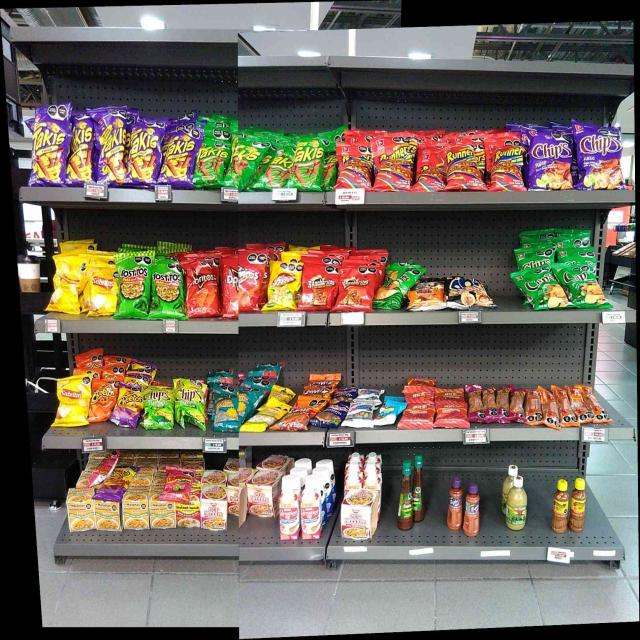bitzAlmendras: (376, 399, 405, 426)
bitzEnchilado90: (436, 398, 467, 424), (406, 402, 436, 428)
bitzEnchilado95: (543, 388, 558, 429), (526, 388, 542, 425), (559, 387, 574, 426), (589, 389, 605, 423), (576, 388, 588, 424)
bitzHabanero: (509, 386, 525, 424), (481, 384, 495, 420), (496, 385, 508, 424), (468, 384, 481, 419)
bokadosCacahuates: (315, 406, 347, 427)
botaneraChilito: (571, 477, 587, 534), (553, 478, 568, 531)
cheetosFlaminHot: (116, 391, 142, 424), (108, 470, 132, 487)
cheetosOriginal: (92, 383, 114, 419)
chipsFuego: (580, 131, 619, 187), (532, 138, 571, 187)
chipsJalapeno: (524, 269, 561, 307), (563, 265, 598, 305)
chipsPapatinas: (177, 378, 204, 428), (143, 390, 173, 426)
churrumais: (166, 472, 192, 495)
delPrimoSalsa: (505, 476, 527, 530)
doritosNacho: (226, 260, 258, 310), (189, 264, 217, 314)
fritosLimon: (270, 268, 294, 306)
leoCacahuates: (348, 402, 374, 428)
leoMix: (284, 404, 311, 430), (304, 377, 334, 397)
maruchanPollo: (124, 489, 148, 530), (150, 501, 174, 528)
maruchanRes: (343, 489, 379, 539), (69, 487, 93, 531), (96, 502, 120, 531), (177, 501, 201, 528)
nestleCarnation: (300, 485, 322, 540), (279, 486, 298, 540)
nissinRes: (202, 485, 228, 533), (250, 472, 276, 518)
popKarameladas: (449, 276, 488, 306)
rancheritos: (306, 269, 335, 308), (341, 272, 372, 308)
rufflesQueso: (376, 271, 412, 306)
runners: (377, 138, 410, 188), (341, 144, 372, 188), (494, 147, 522, 188), (447, 149, 473, 189), (420, 154, 445, 190)
sabritasOriginal: (59, 380, 88, 424), (52, 270, 80, 310), (90, 272, 114, 309)
salsaBufalo: (399, 460, 414, 531)
semillasCalabaza: (242, 411, 278, 432)
semillasGirasol: (215, 387, 238, 431), (239, 388, 259, 410)
tajinDulce: (464, 484, 480, 536), (448, 477, 462, 529)
takisFuego: (34, 110, 66, 186), (96, 119, 124, 184), (131, 124, 159, 186), (68, 122, 94, 187), (164, 134, 194, 182)
takisOriginal: (295, 141, 323, 187), (198, 144, 226, 185), (228, 148, 262, 177), (268, 150, 292, 184)
tostitos: (150, 267, 182, 317), (121, 264, 148, 308)
